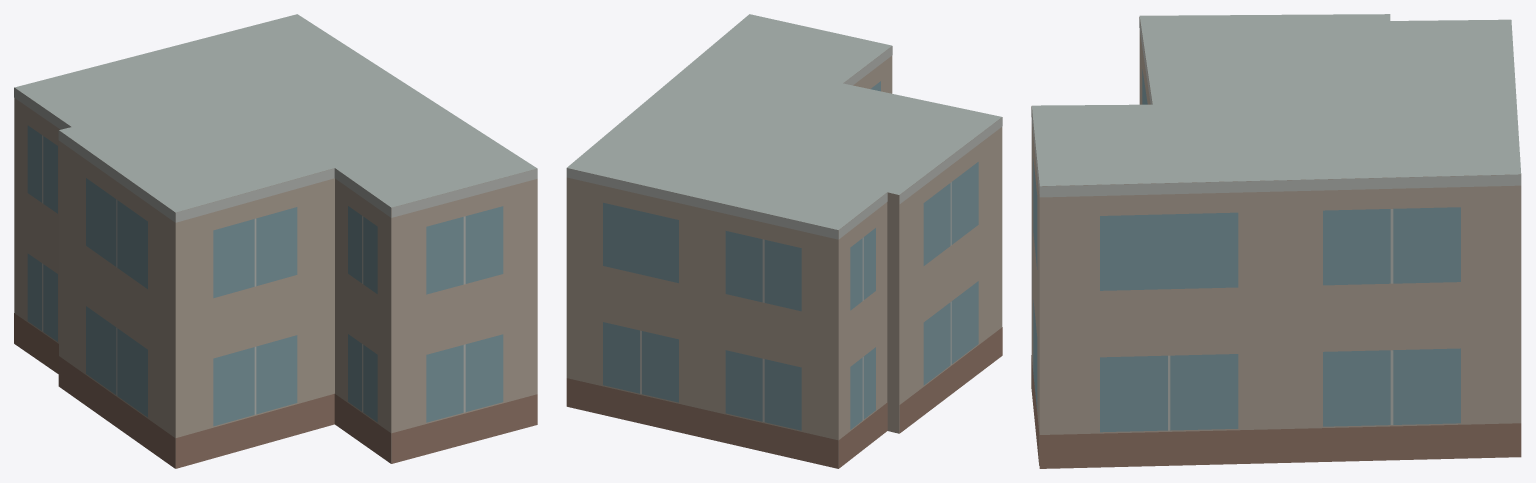
Rendered from survey-upis-32768672.glb.
3 views of the same model, side by side, from view 1: azimuth 30°, elevation 25°; view 2: azimuth 150°, elevation 25°; view 3: azimuth 270°, elevation 25° (orthographic). The views are drawn at different scales.
Parts seen in each view (by area): view 1: survey-upis-32768672.tmp; view 2: survey-upis-32768672.tmp; view 3: survey-upis-32768672.tmp.
Part boxes in pixels (x1,y1,x2,y2): survey-upis-32768672.tmp: (14, 14, 537, 468); survey-upis-32768672.tmp: (566, 14, 1002, 468); survey-upis-32768672.tmp: (1031, 14, 1521, 468).
Bounding box in the file's own units: 7.98 × 6.1 × 9.59.
